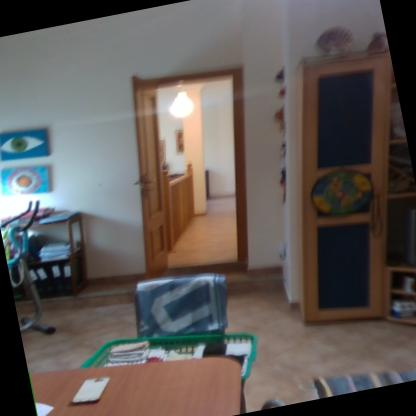open: (123, 53, 285, 283)
